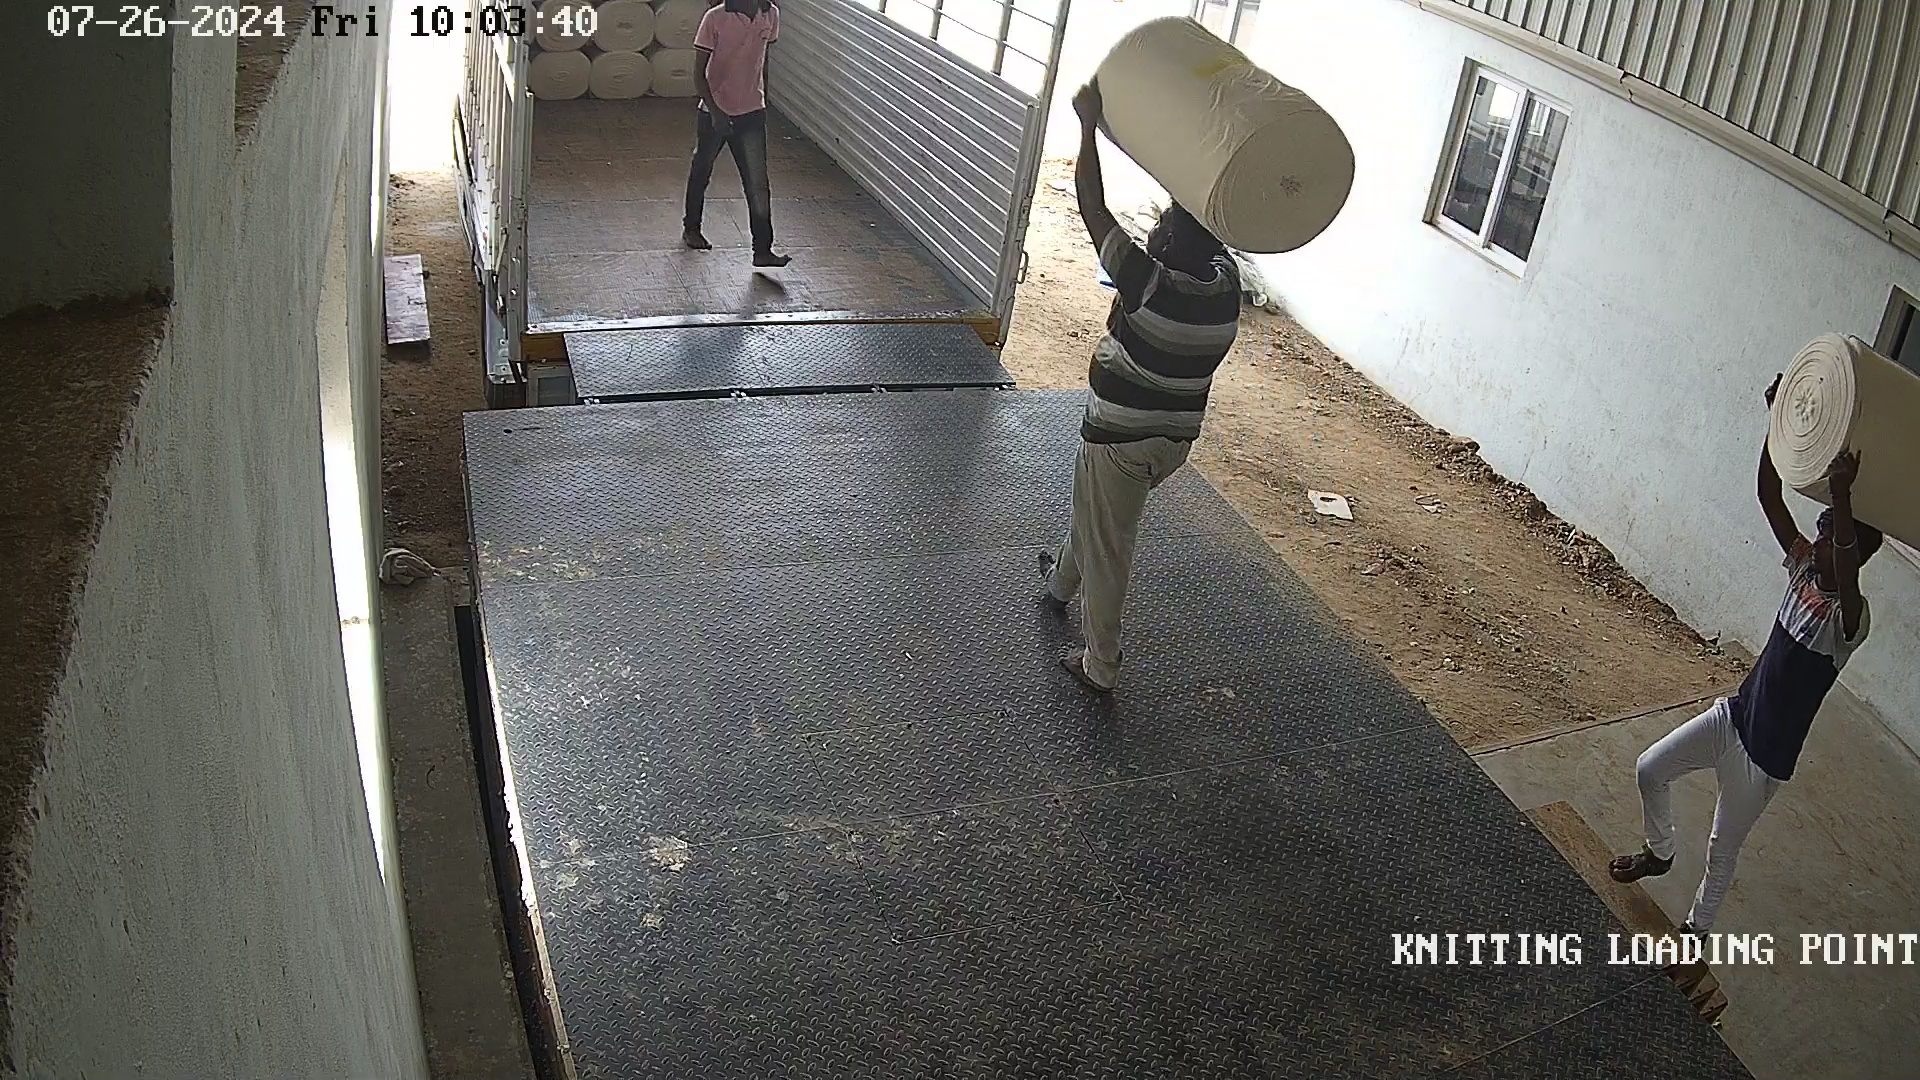bag: (1064, 8, 1382, 255)
